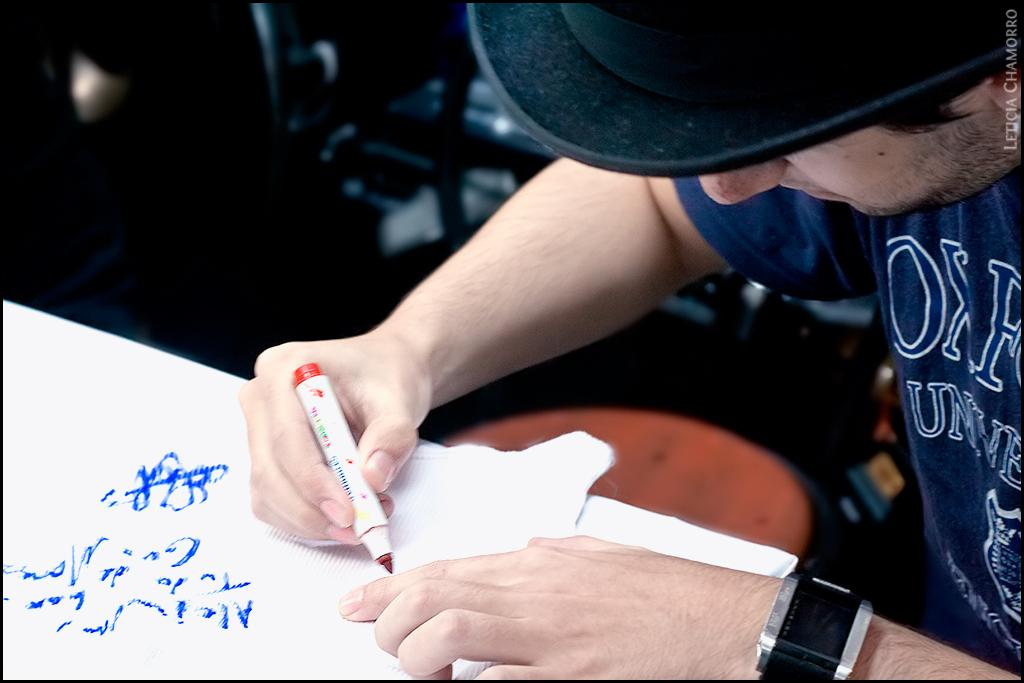Hat: (460, 0, 1022, 178)
